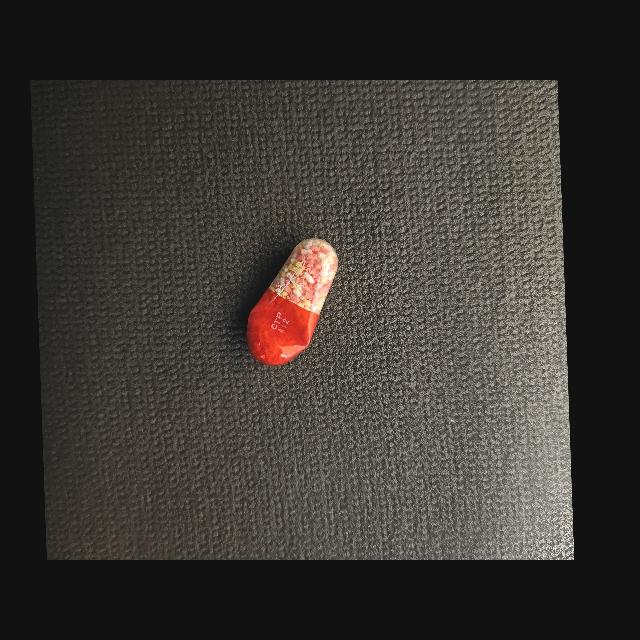Defective Capsule: (246, 238, 338, 366)
